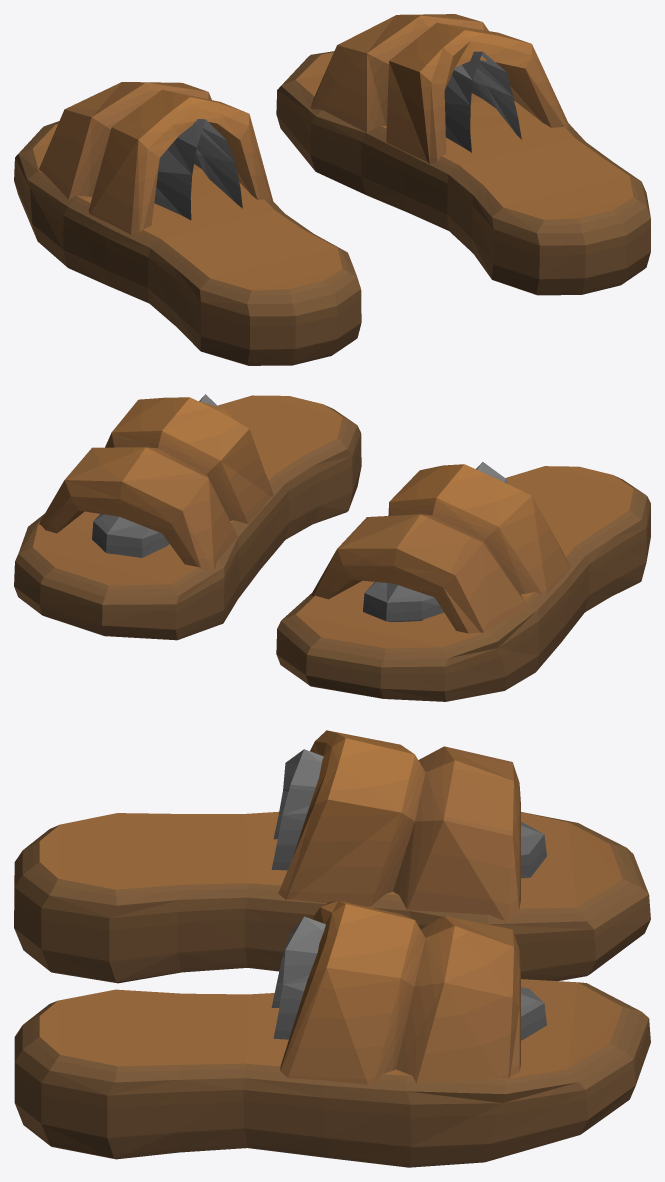
Rendered from CharSkyKid_Feet_SunlightSandals.glb.
3 renders of one model, top to bottom at view 1: azimuth 30°, elevation 25°; view 2: azimuth 150°, elevation 25°; view 3: azimuth 270°, elevation 25°, orthographic. The views are drawn at different scales.
Visible parts, largest first — view 1: CharSkyKid_Feet_SunlightSandals; view 2: CharSkyKid_Feet_SunlightSandals; view 3: CharSkyKid_Feet_SunlightSandals.
Boxes of the visible parts, x1,y1,x2,y2 form: CharSkyKid_Feet_SunlightSandals: [14, 14, 650, 365]; CharSkyKid_Feet_SunlightSandals: [14, 394, 650, 701]; CharSkyKid_Feet_SunlightSandals: [14, 730, 650, 1167].
Size of the model in its own units: 3.14 by 1.06 by 2.95.
Materials: 1 (1 with a texture image).
